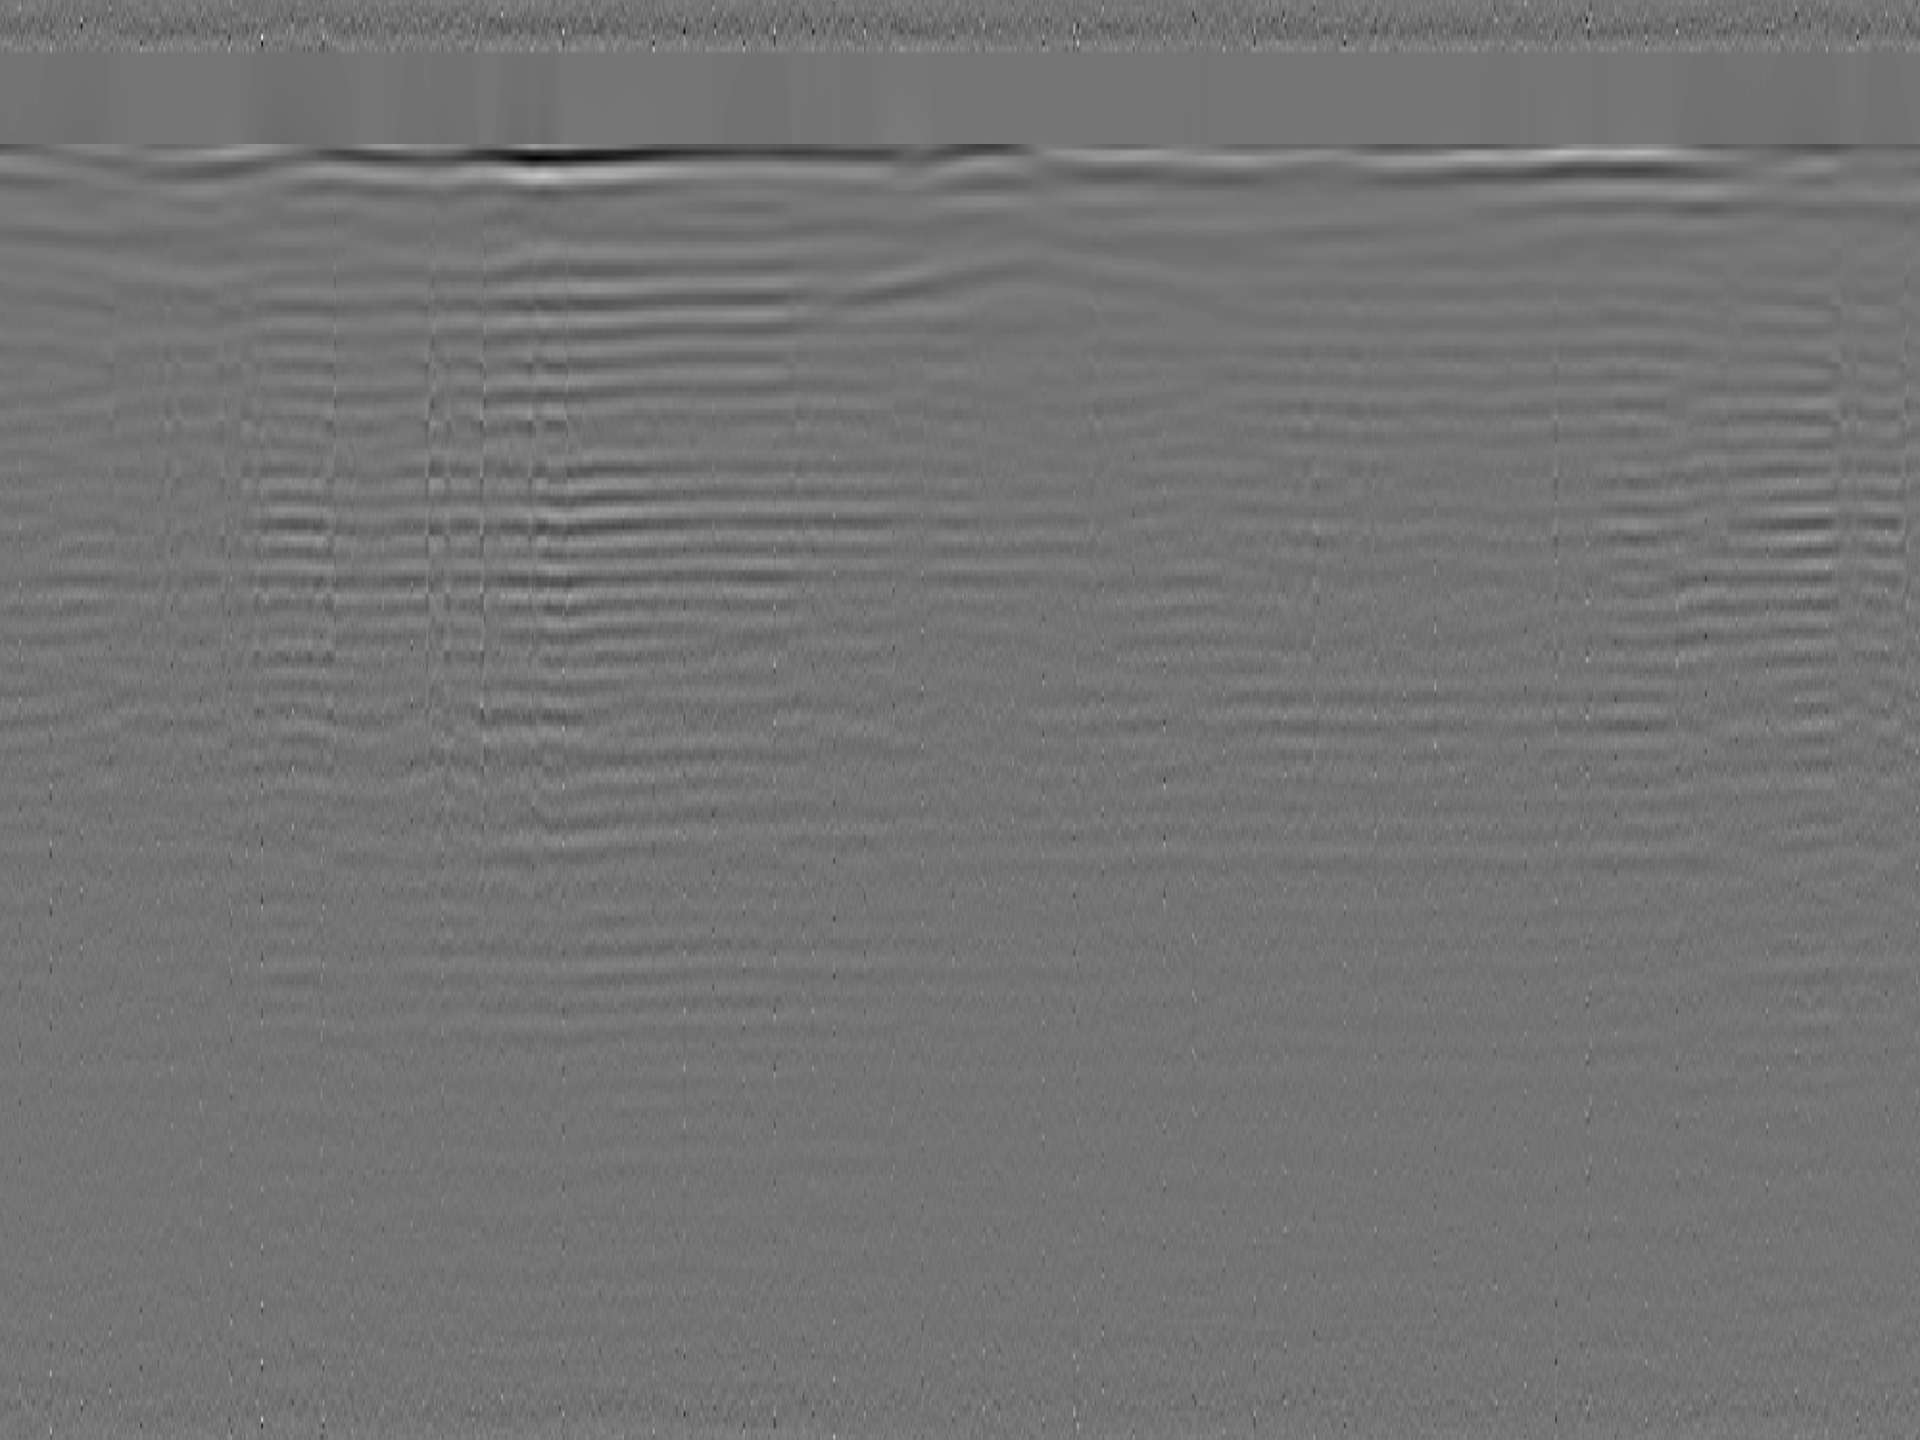Tunnel: (850, 248, 1243, 316)
